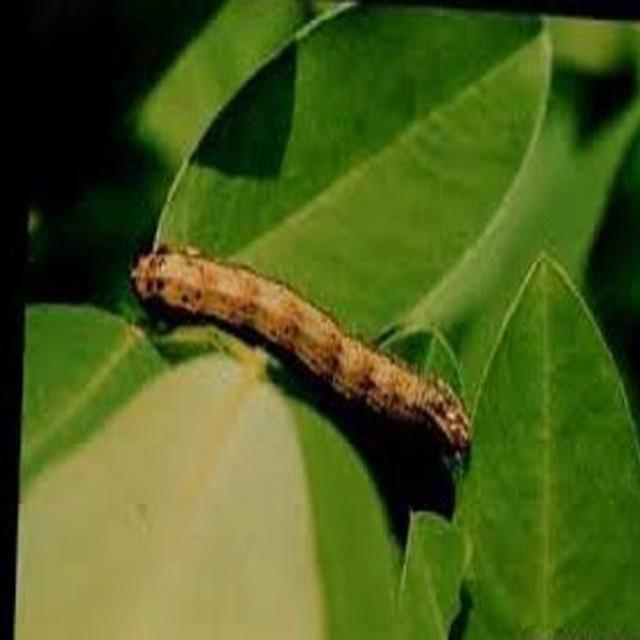gusano_cogollero: (119, 240, 477, 454)
